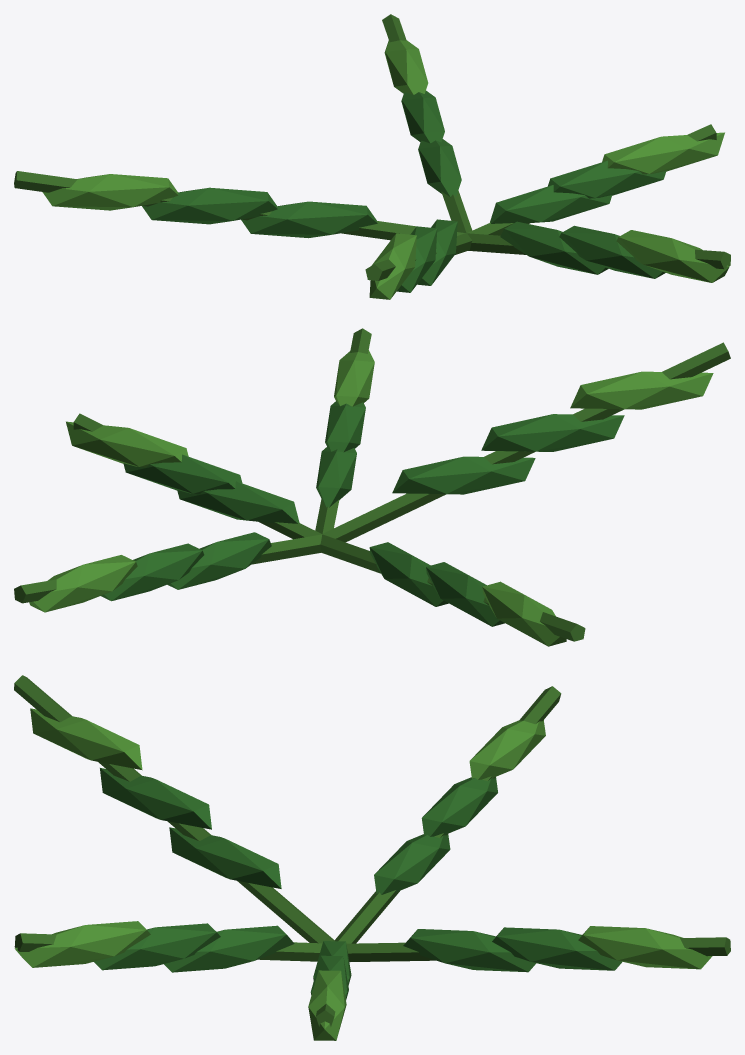
File: fern_e.glb
3 views of the same model, one above another, from view 1: azimuth 30°, elevation 25°; view 2: azimuth 150°, elevation 25°; view 3: azimuth 270°, elevation 25° (orthographic). The views are drawn at different scales.
Parts seen in each view (by area): view 1: Leaf_3_3.004, Leaf_3_1.004, Leaf_3_2.004, Leaf_1_3.004, Leaf_5_3.004, Leaf_1_1.004, Leaf_1_2.004, Leaf_5_1.004, Leaf_5_2.004, Stem_3.004, Leaf_4_3.004, Leaf_2_3.004 (+8 smaller); view 2: Stem_4.004, Leaf_4_1.004, Leaf_4_3.004, Leaf_4_2.004, Leaf_1_3.004, Leaf_2_3.004, Leaf_1_1.004, Leaf_2_1.004, Leaf_2_2.004, Leaf_1_2.004, Leaf_3_3.004, Leaf_3_1.004 (+8 smaller); view 3: Leaf_2_3.004, Leaf_5_3.004, Stem_4.004, Leaf_2_1.004, Leaf_2_2.004, Leaf_4_3.004, Leaf_4_1.004, Leaf_4_2.004, Leaf_5_1.004, Leaf_5_2.004, Leaf_3_3.004, Leaf_3_1.004 (+7 smaller).
Part boxes in pixels (left/top/right/bottom): Leaf_3_3.004: left=42, top=174, right=178, bottom=210; Leaf_3_1.004: left=241, top=201, right=377, bottom=238; Leaf_3_2.004: left=142, top=187, right=277, bottom=224; Leaf_1_3.004: left=602, top=132, right=724, bottom=174; Leaf_5_3.004: left=616, top=230, right=729, bottom=282; Leaf_1_1.004: left=490, top=185, right=612, bottom=223; Leaf_1_2.004: left=548, top=160, right=666, bottom=198; Leaf_5_1.004: left=500, top=221, right=608, bottom=274; Leaf_5_2.004: left=559, top=225, right=665, bottom=278; Stem_3.004: left=14, top=171, right=465, bottom=240; Leaf_4_3.004: left=369, top=233, right=416, bottom=299; Leaf_2_3.004: left=384, top=40, right=428, bottom=94; Stem_4.004: left=322, top=342, right=730, bottom=542; Leaf_4_1.004: left=392, top=456, right=535, bottom=494; Leaf_4_3.004: left=570, top=371, right=713, bottom=409; Leaf_4_2.004: left=481, top=414, right=624, bottom=451; Leaf_1_3.004: left=66, top=421, right=188, bottom=467; Leaf_2_3.004: left=29, top=555, right=137, bottom=612; Leaf_1_1.004: left=177, top=481, right=299, bottom=523; Leaf_2_1.004: left=167, top=532, right=271, bottom=589; Leaf_2_2.004: left=101, top=543, right=204, bottom=601; Leaf_1_2.004: left=123, top=454, right=242, bottom=494; Leaf_3_3.004: left=482, top=581, right=566, bottom=646; Leaf_3_1.004: left=369, top=542, right=448, bottom=606; Leaf_2_3.004: left=578, top=926, right=712, bottom=969; Leaf_5_3.004: left=14, top=921, right=150, bottom=967; Stem_4.004: left=14, top=675, right=334, bottom=943; Leaf_2_1.004: left=403, top=929, right=536, bottom=972; Leaf_2_2.004: left=492, top=927, right=622, bottom=970; Leaf_4_3.004: left=30, top=708, right=142, bottom=770; Leaf_4_1.004: left=169, top=827, right=281, bottom=888; Leaf_4_2.004: left=100, top=768, right=211, bottom=829; Leaf_5_1.004: left=164, top=925, right=294, bottom=972; Leaf_5_2.004: left=94, top=923, right=220, bottom=970; Leaf_3_3.004: left=469, top=720, right=545, bottom=779; Leaf_3_1.004: left=374, top=834, right=450, bottom=894.
Size of the model in its own units: 1.9 by 0.4524 by 1.83.
